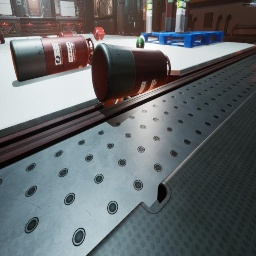0: (175, 0, 184, 33), (146, 0, 152, 34), (181, 0, 186, 33), (136, 36, 145, 48), (0, 14, 10, 16)
EmergencyPhone ,: (116, 14, 118, 21)
FireExtinguisher ]: (138, 31, 144, 37), (67, 16, 67, 17)
FirstAidBox ,: (93, 27, 105, 41), (0, 31, 5, 44), (81, 29, 84, 34), (63, 16, 67, 17)
NitrogenTank ,: (91, 43, 171, 102), (10, 35, 95, 82), (165, 0, 174, 32), (184, 0, 190, 32), (172, 0, 177, 31), (57, 31, 78, 37), (164, 0, 166, 32), (24, 14, 29, 17)
SafetySwitchPanel ,: (143, 0, 147, 20), (16, 0, 21, 5)
